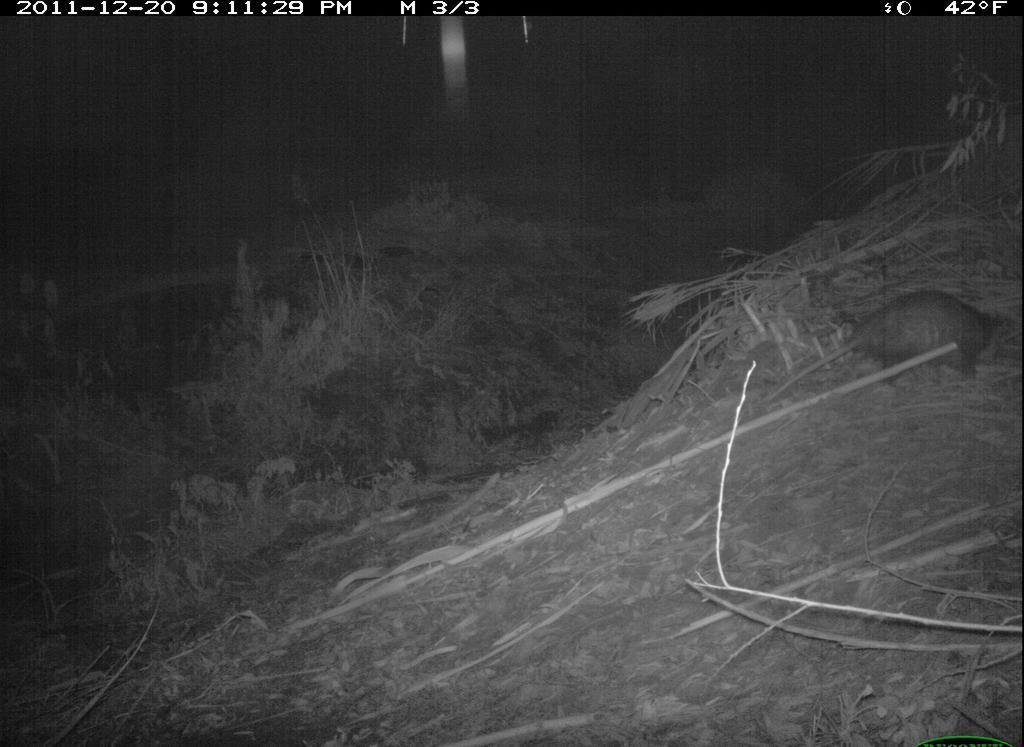opossum: (766, 291, 1013, 387)
